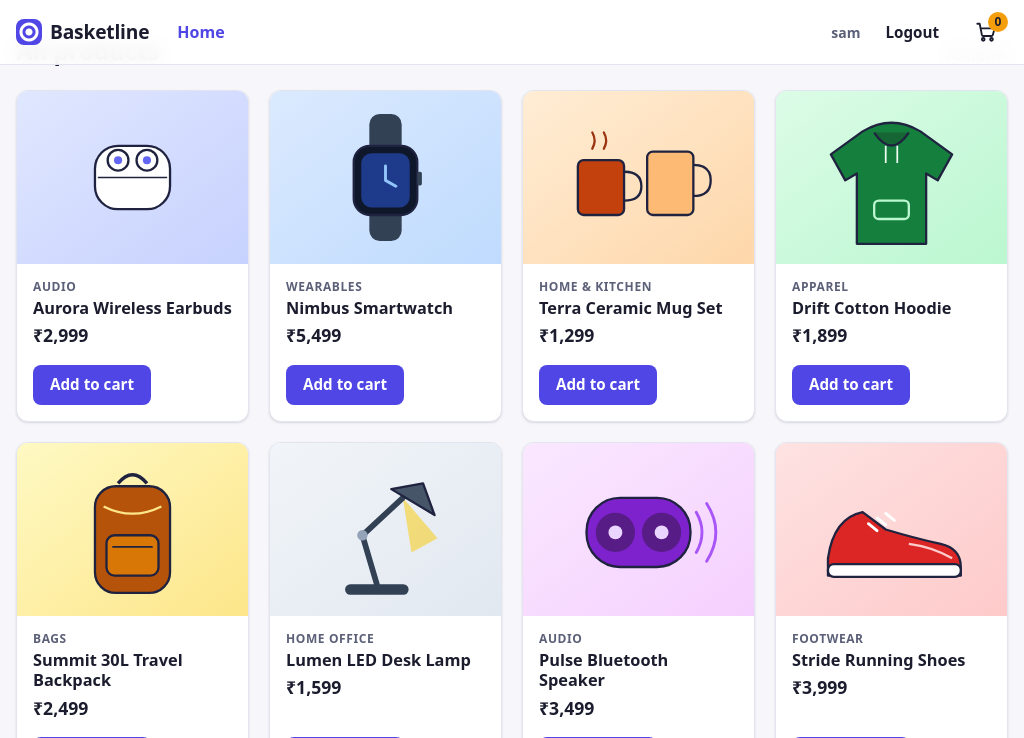
Scenario: shopping cart flow › shows lines, subtotal, and supports quantity changes and removal on /cart
(page scrolled)
Click the 1st button "Add to cart": (92, 385) [33,365,151,405]
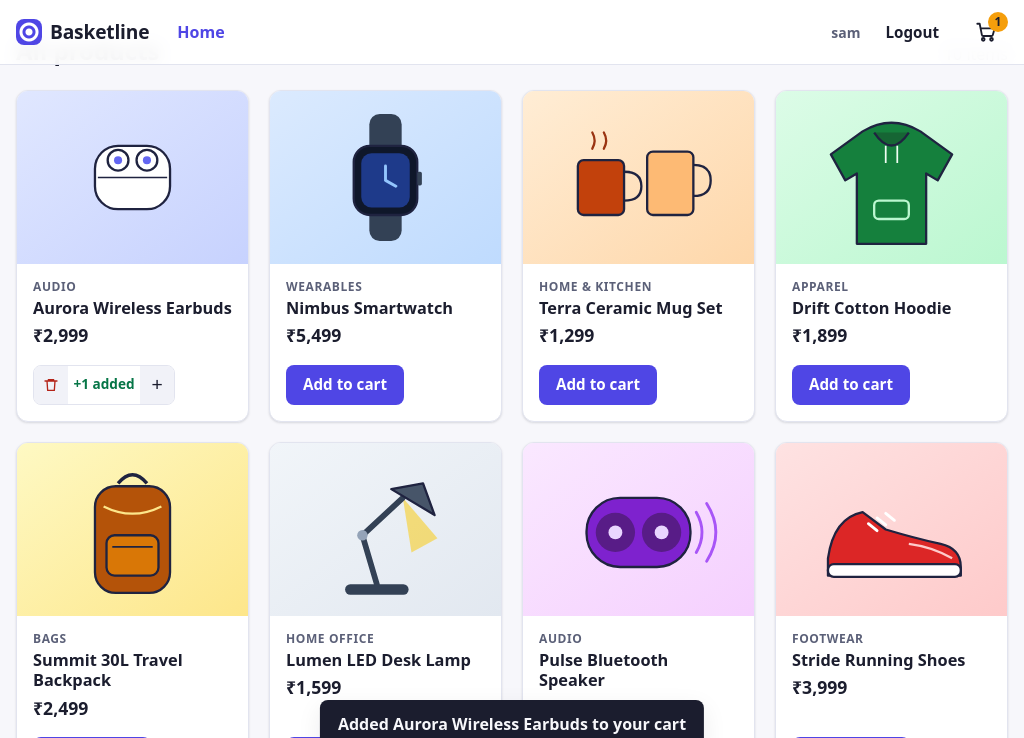
Click the button named "Increase quantity of Aurora Wireless Earbuds": (157, 385) [140,366,174,404]
(page scrolled)
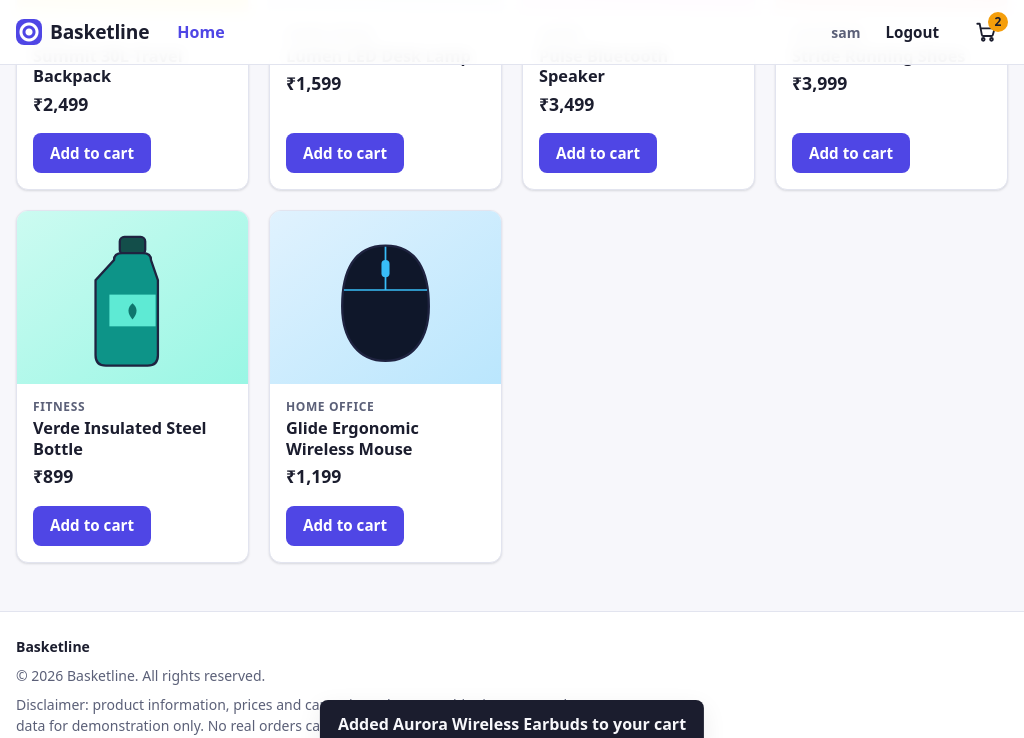
Click the button "Add to cart" below "₹899": (92, 526) [33,506,151,546]
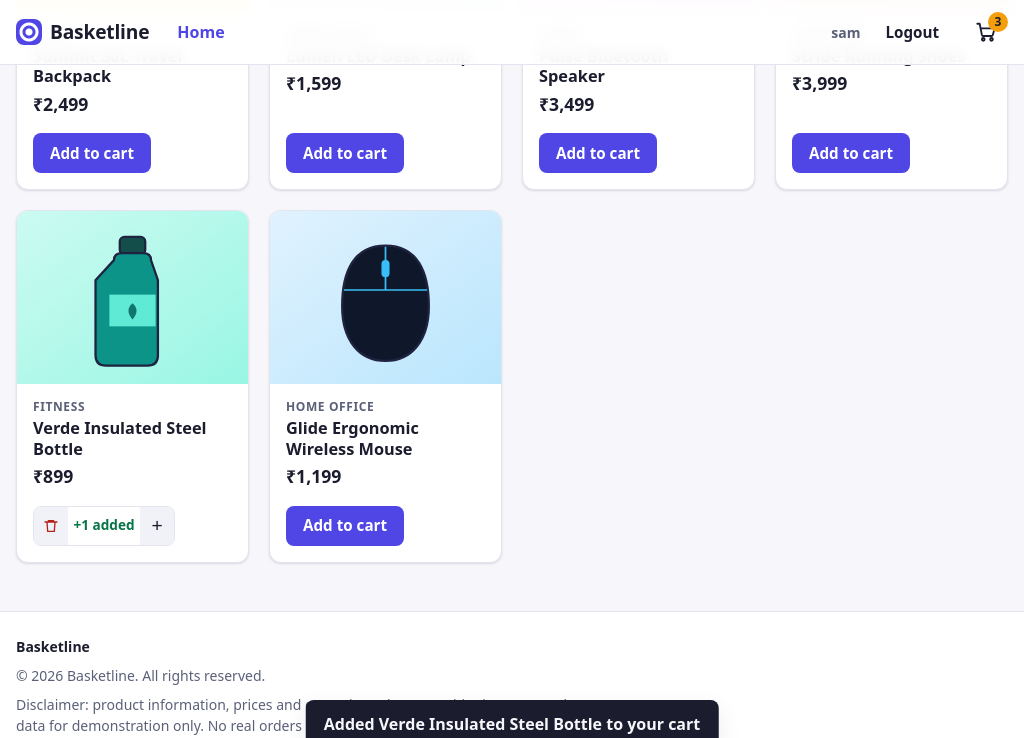
Click the link named "Cart,": (992, 28) [975,12,1008,43]
(page scrolled)
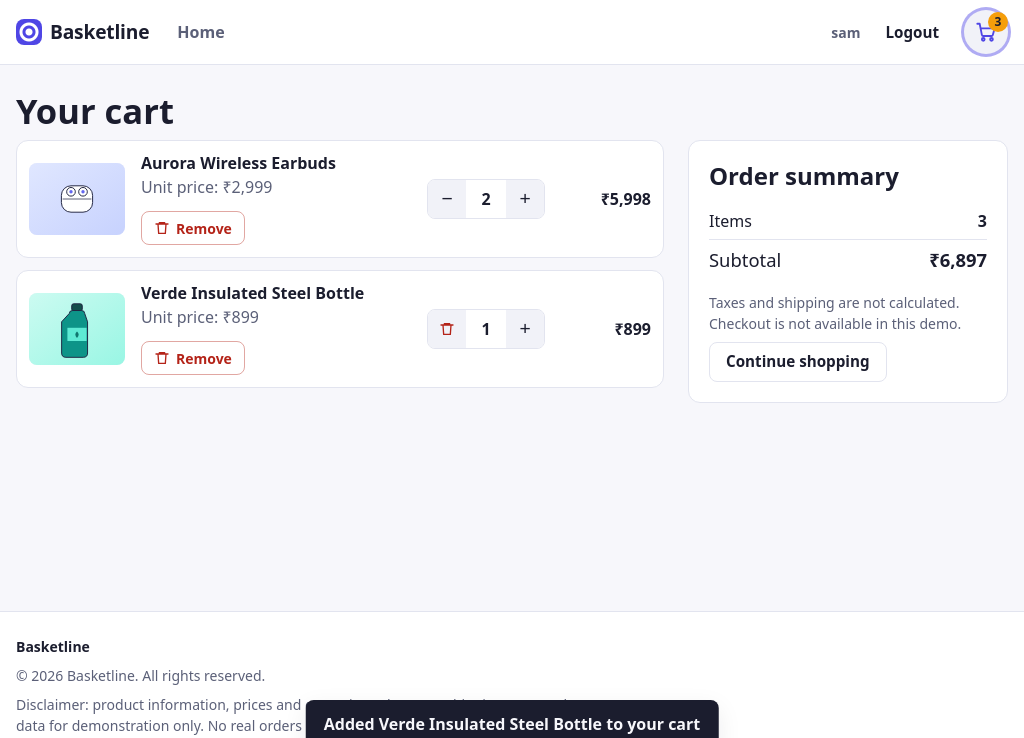
Expected: the heading "Your cart" is shown, [16,87,174,134]
Expected: the text with test id "quantity" reads "2", [481,188,491,210]
Expected: the text with test id "line-total" reads "₹5,998", [601,188,651,210]
Click the button named "Increase quantity of Aurora Wireless Earbuds": (525, 199) [506,180,544,218]
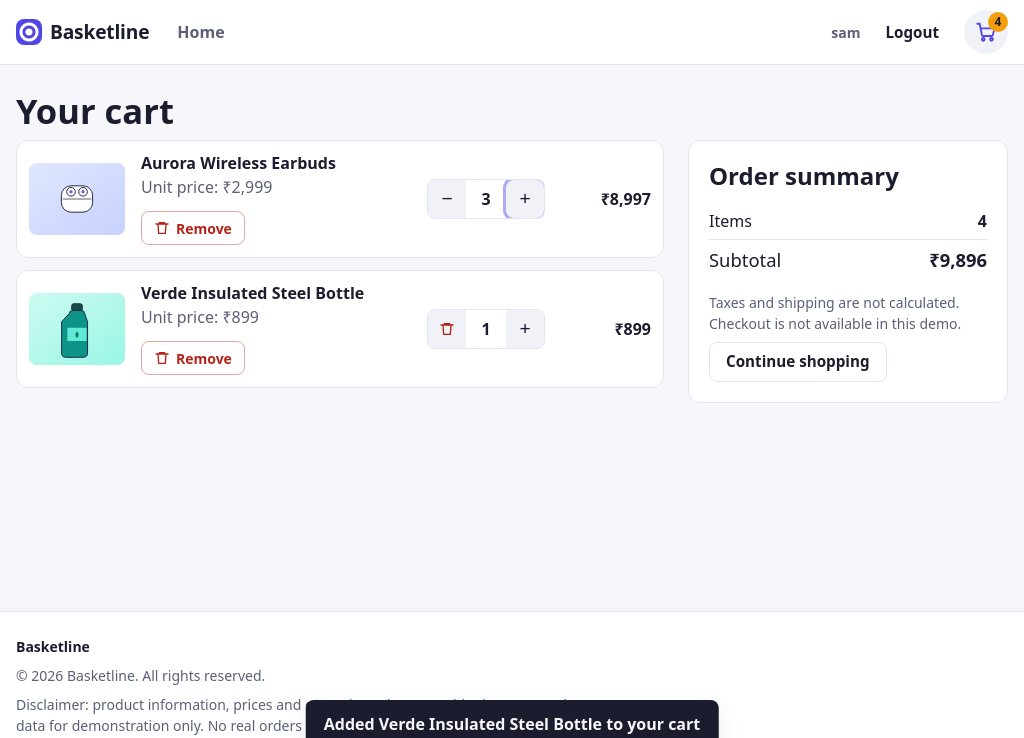
Expected: the text with test id "quantity" reads "3", [481,188,491,210]
Expected: the text with test id "cart-subtotal" reads "₹9,896", [929,247,987,272]
Expected: the text with test id "cart-badge" reads "4", [995,13,1002,30]
Click the button named "Remove Verde Insulated Steel Bottle from cart": (447, 329) [428,310,466,348]
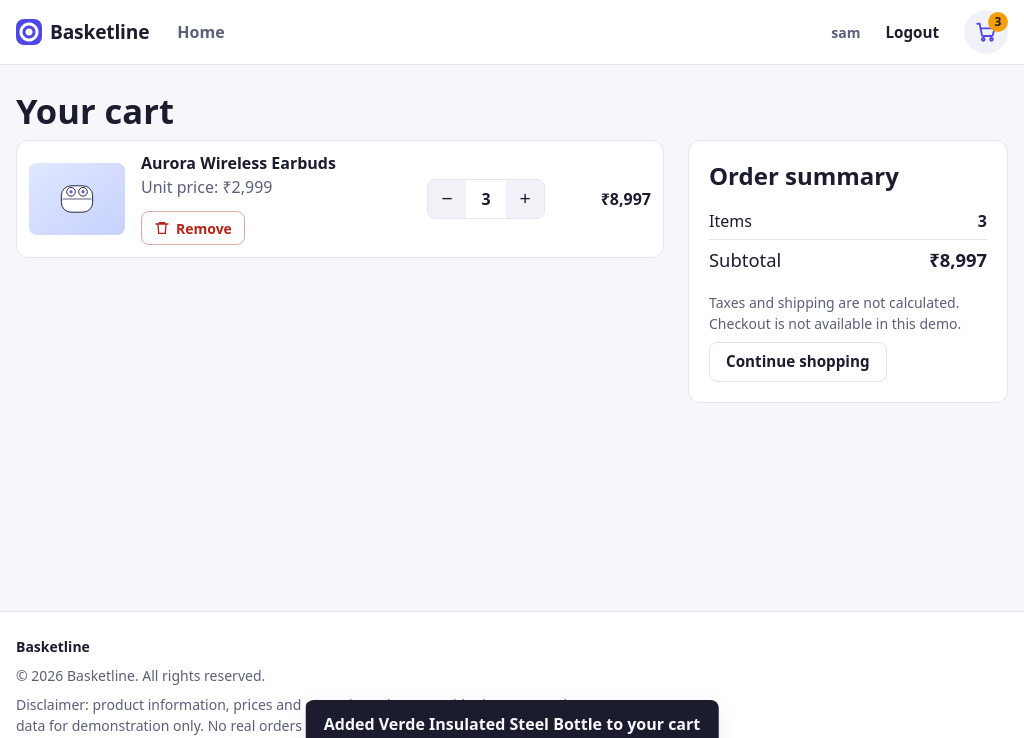
Expected: the list item with test id "cart-line-product_009" is gone
Expected: the text with test id "cart-badge" reads "3", [995,13,1002,30]
